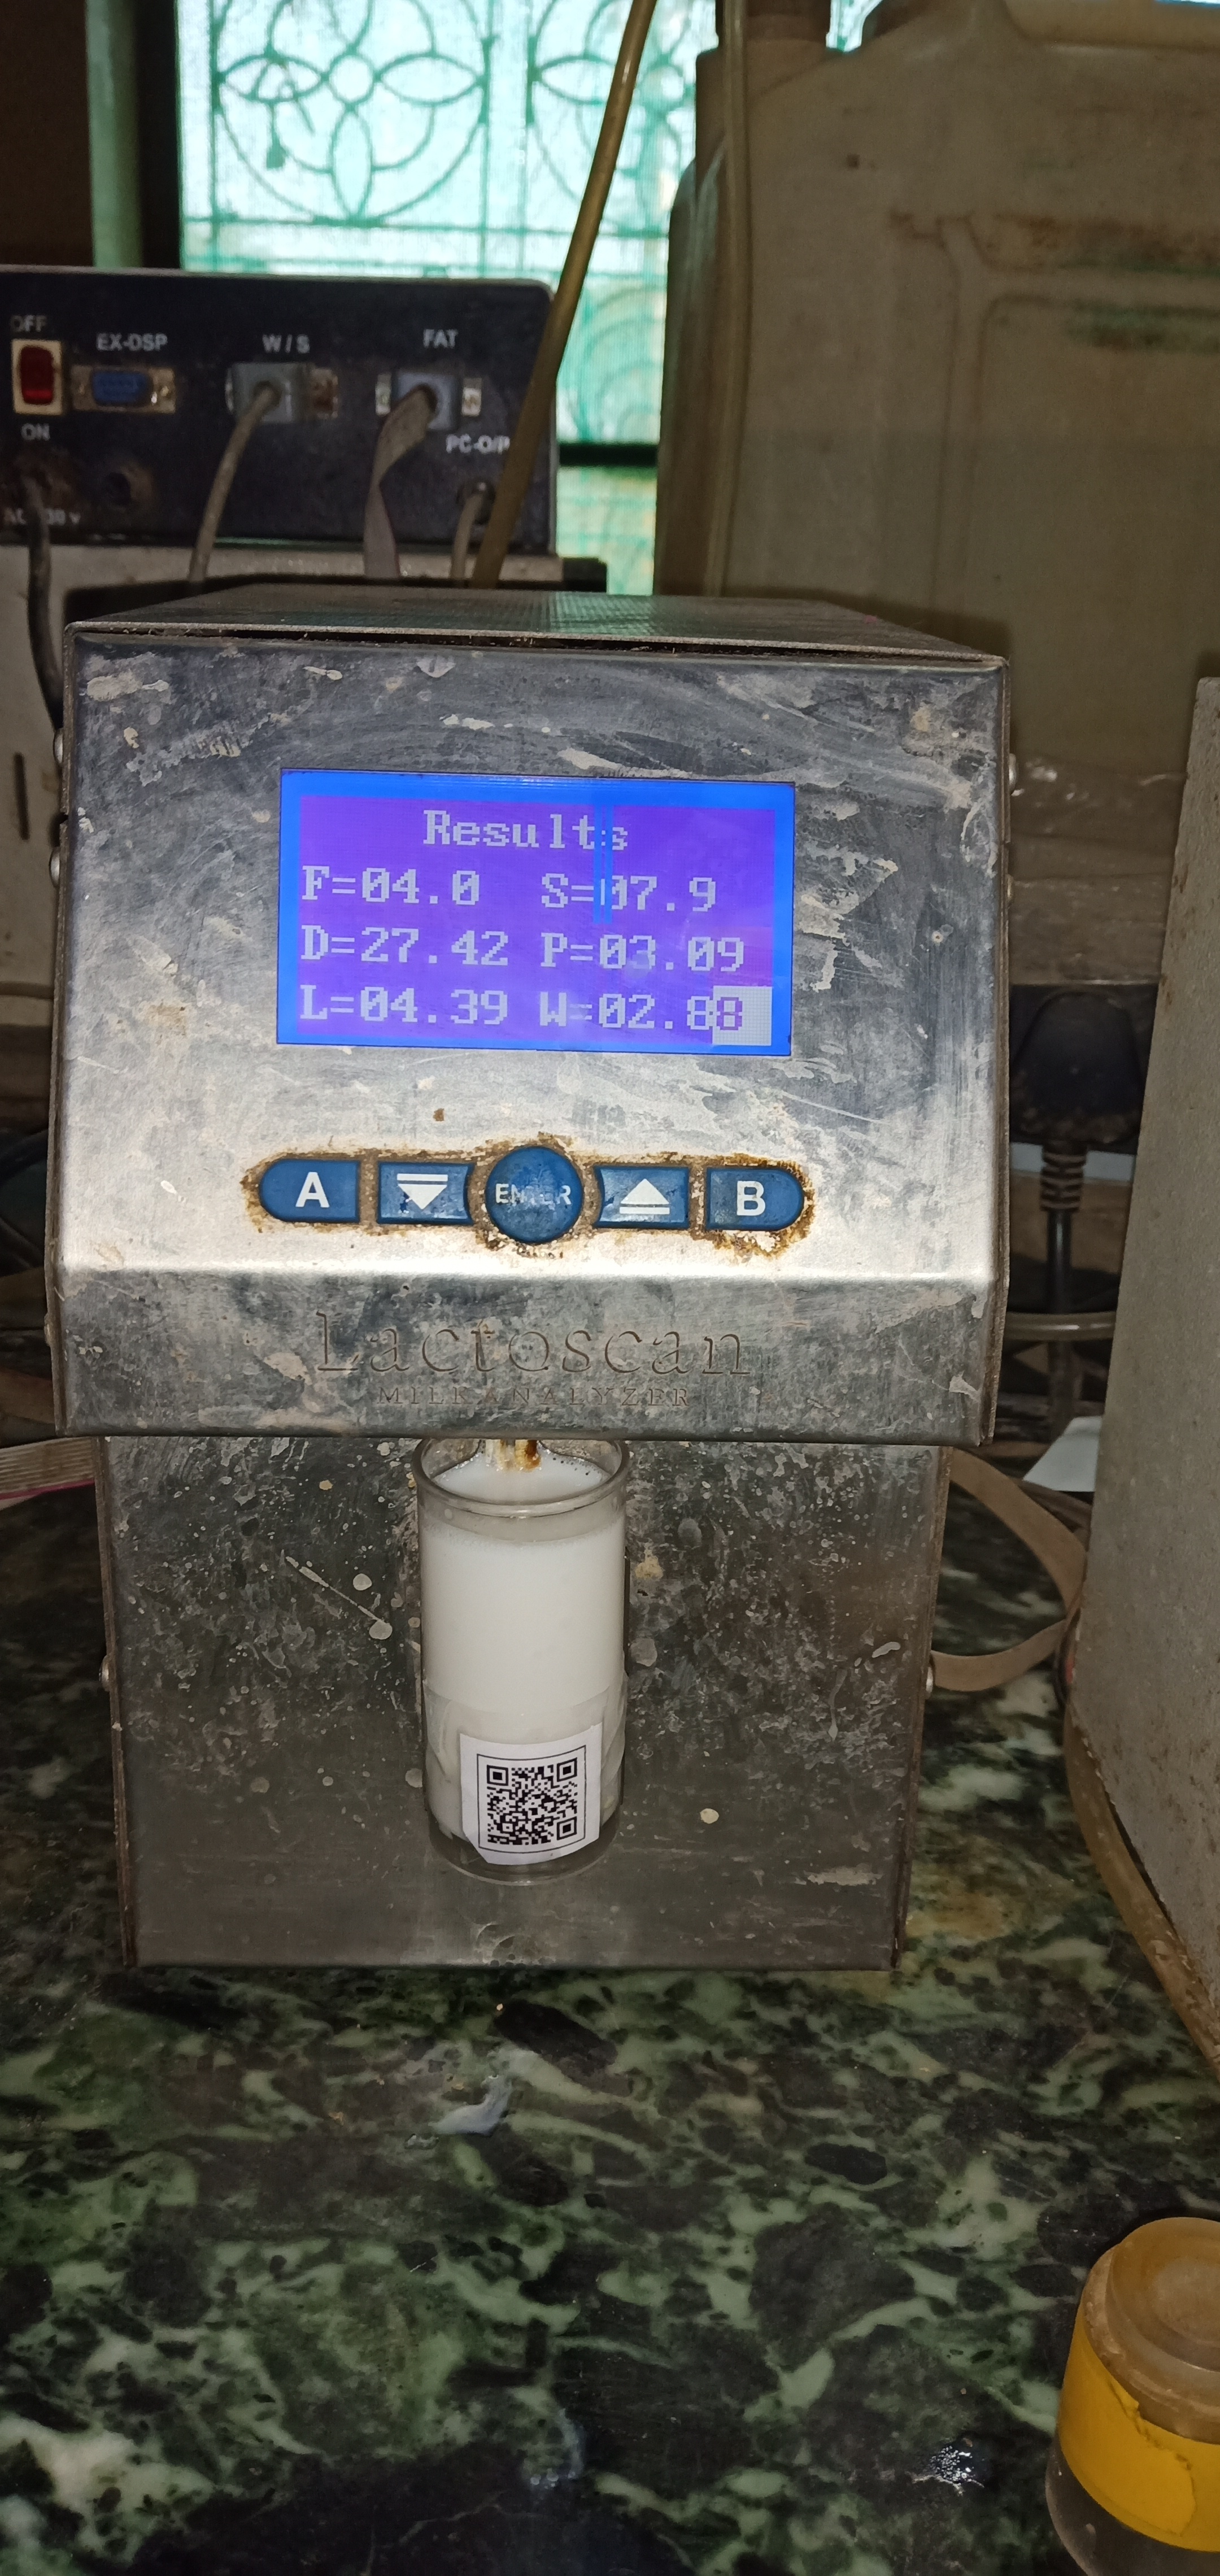lcd: (264, 767, 821, 1066)
qr: (458, 1728, 608, 1873)
